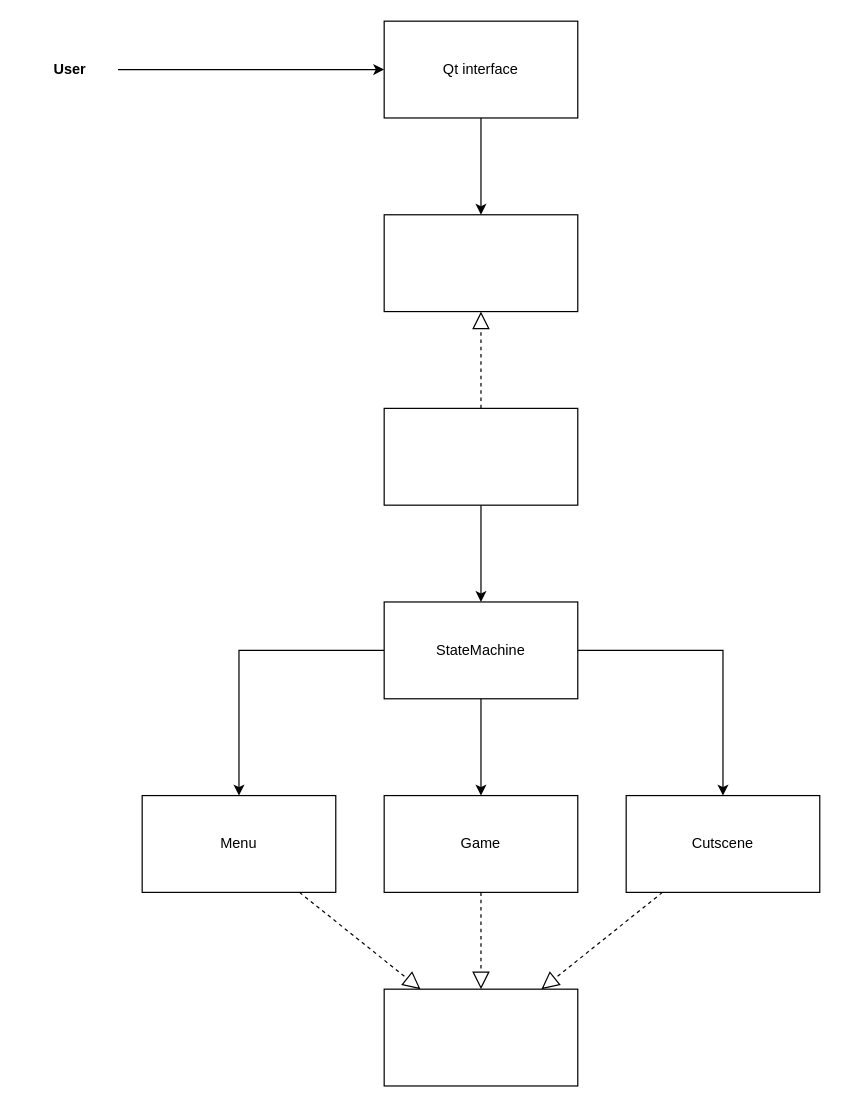
The diagram is 841 pixels wide and 1107 high, and some of its shapes have lost their labels. Each missing label, with the box of its shape:
Coordinator: (383, 407, 578, 505)
«interface» Interface: (383, 214, 578, 312)
«interface» State: (383, 988, 578, 1086)
